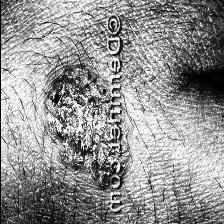Non-Cancerous Skin Condition: (31, 21, 103, 224)
